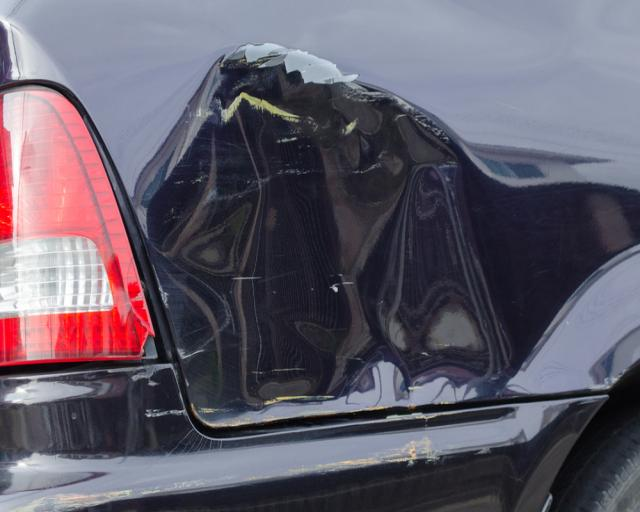dent: (135, 43, 507, 420)
lamp broken: (0, 83, 162, 370)
scratch: (13, 430, 456, 512)
